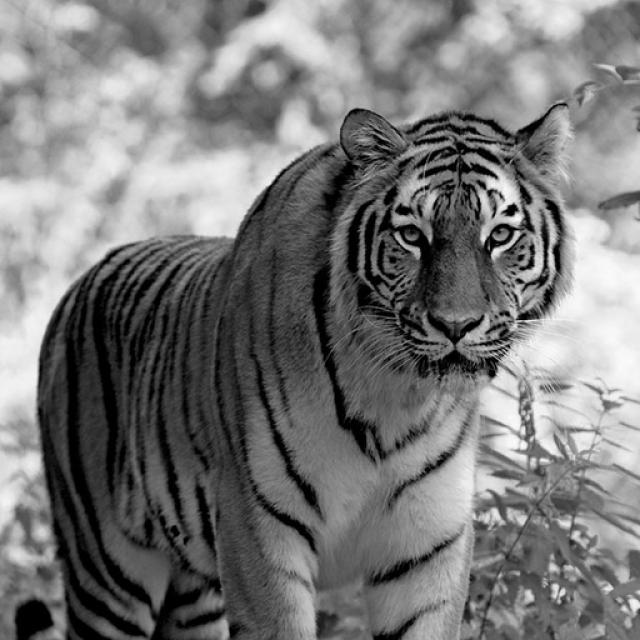Tiger: (24, 100, 581, 639)
